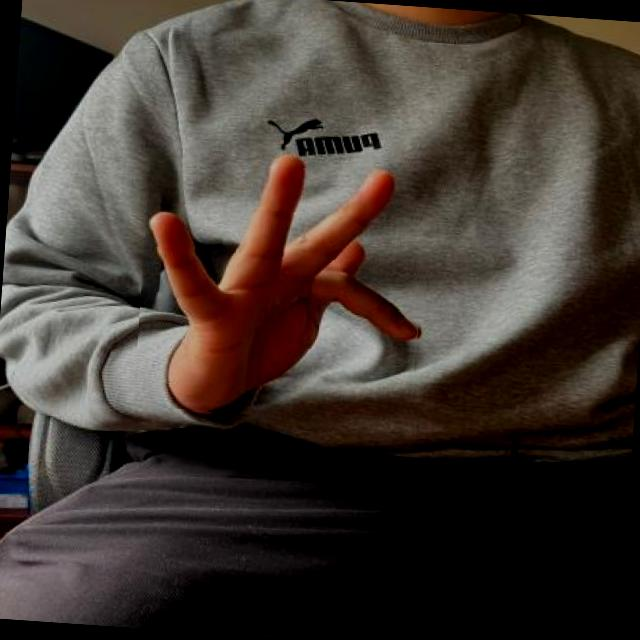F: (132, 135, 434, 427)
